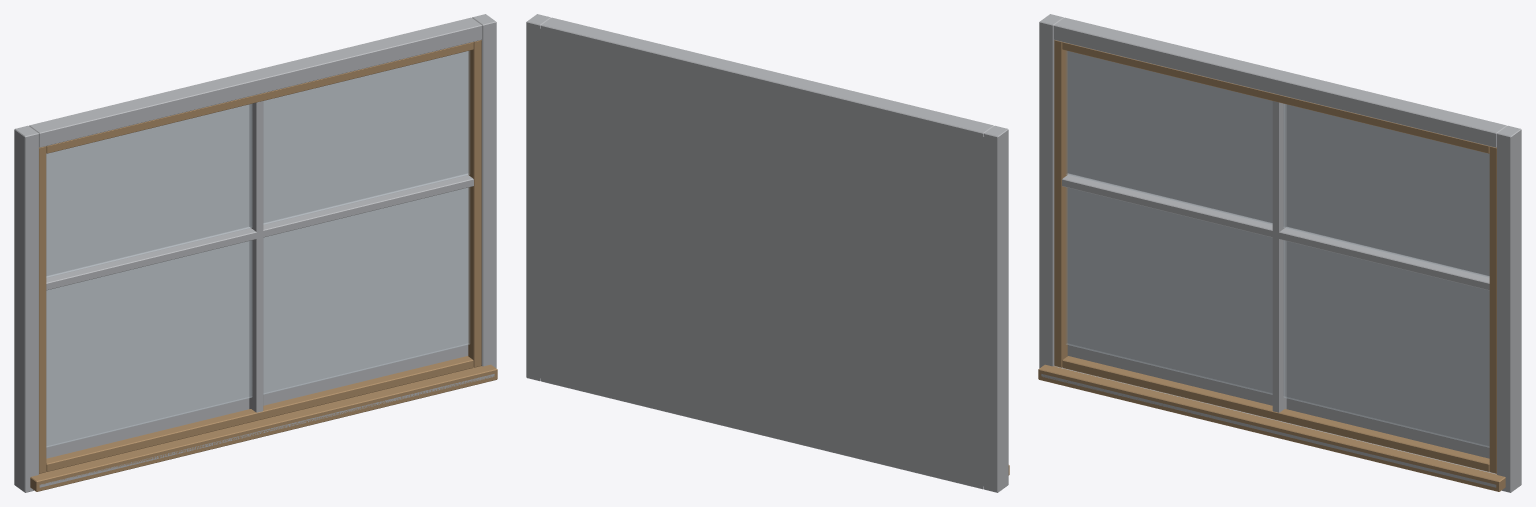
File: prop_window_01.glb
3 renders of one model, left to right at view 1: azimuth 30°, elevation 25°; view 2: azimuth 150°, elevation 25°; view 3: azimuth 330°, elevation 25°, orthographic.
Parts seen in each view (by area): view 1: prop_window_01; view 2: prop_window_01; view 3: prop_window_01.
Boxes of the visible parts, left/top/right/bottom form: prop_window_01: left=14, top=14, right=497, bottom=492; prop_window_01: left=526, top=14, right=1009, bottom=492; prop_window_01: left=1038, top=14, right=1521, bottom=492.
Bounding box in the file's own units: 1.8 × 1.3 × 0.113.
